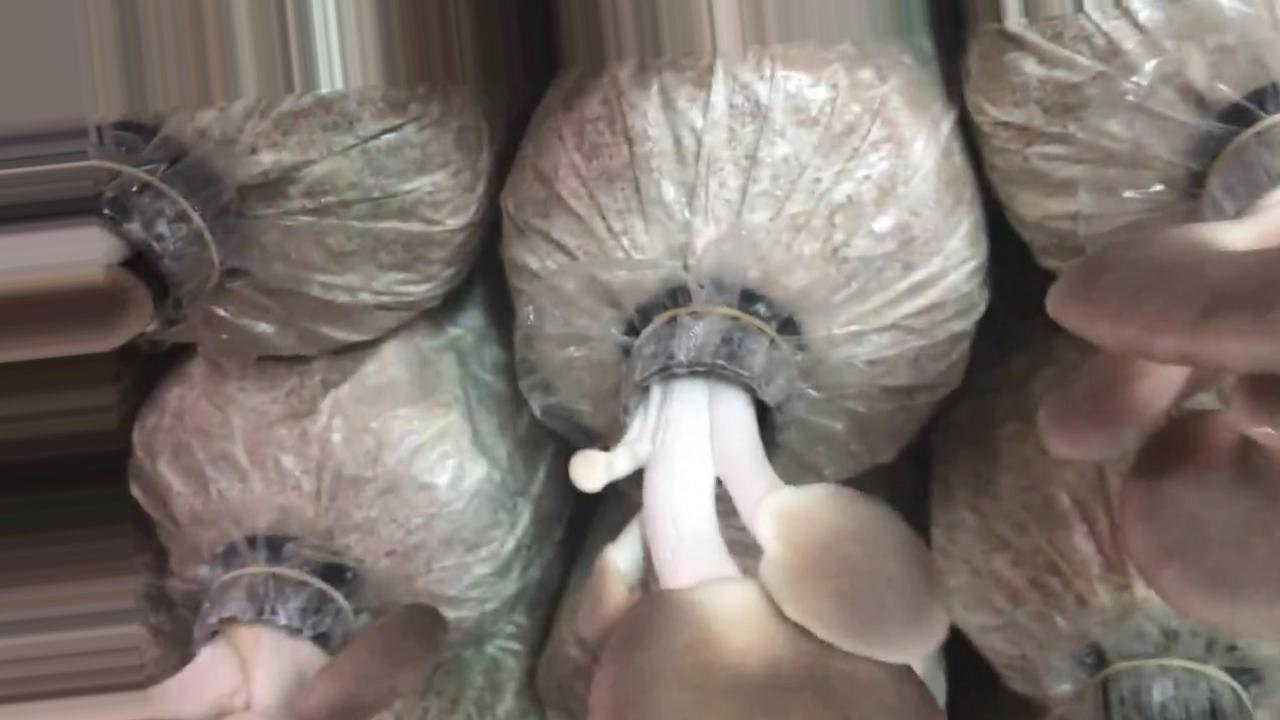nam: (541, 306, 956, 720), (1041, 116, 1280, 645), (148, 573, 453, 720), (1, 145, 189, 359)
